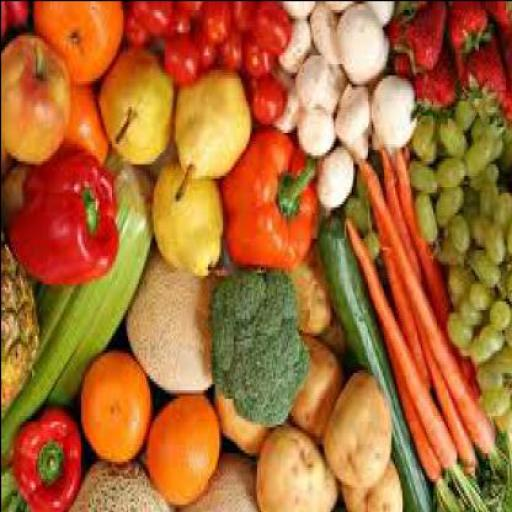biodegradable: (2, 154, 154, 512), (360, 159, 510, 511), (350, 225, 492, 511), (319, 214, 434, 511), (208, 271, 310, 429), (9, 152, 120, 286), (383, 330, 463, 512), (220, 126, 318, 272), (412, 303, 482, 492), (127, 254, 216, 398), (388, 148, 452, 332), (171, 72, 254, 206), (2, 34, 71, 168), (102, 46, 174, 168), (146, 392, 220, 506), (153, 166, 225, 281), (80, 355, 153, 466), (327, 372, 392, 492), (381, 246, 433, 395), (34, 3, 126, 86), (12, 411, 84, 511), (254, 432, 340, 511), (2, 246, 40, 417), (290, 340, 348, 449), (382, 158, 424, 289), (58, 80, 111, 169), (174, 458, 262, 511), (72, 469, 180, 511), (387, 3, 446, 75), (337, 3, 389, 83), (287, 246, 332, 337), (454, 37, 505, 117), (212, 391, 270, 458), (370, 77, 418, 149), (416, 52, 462, 126), (343, 460, 404, 511), (295, 51, 340, 120), (318, 151, 356, 212), (450, 3, 492, 57), (337, 83, 374, 143), (310, 3, 344, 66), (297, 108, 338, 160), (253, 6, 292, 60), (163, 35, 200, 91), (250, 77, 288, 129), (2, 163, 29, 232), (279, 20, 314, 71), (245, 34, 279, 80), (466, 249, 501, 289), (495, 37, 511, 124), (203, 3, 233, 49), (468, 121, 503, 160), (280, 74, 302, 135), (2, 3, 32, 46), (337, 3, 394, 25), (126, 6, 152, 54), (412, 117, 437, 166), (465, 138, 494, 180), (136, 3, 170, 38), (218, 32, 245, 74), (194, 29, 218, 74), (418, 197, 440, 246), (412, 163, 440, 200), (323, 320, 350, 358), (436, 160, 468, 192), (436, 194, 465, 229), (166, 14, 192, 51), (449, 311, 472, 352), (483, 386, 510, 420), (485, 223, 505, 266), (234, 3, 258, 38), (450, 271, 474, 306), (345, 203, 370, 235), (174, 3, 204, 29), (341, 137, 370, 163), (478, 366, 504, 395), (488, 348, 510, 382), (495, 193, 511, 239), (436, 241, 462, 269), (451, 217, 470, 254), (479, 189, 498, 226), (490, 5, 511, 38), (363, 231, 382, 266), (481, 332, 505, 358), (470, 286, 494, 312), (468, 214, 487, 246), (283, 3, 318, 20), (370, 128, 392, 154), (491, 306, 510, 335), (495, 408, 511, 442), (472, 340, 490, 369), (470, 175, 497, 194), (358, 177, 371, 209), (336, 66, 347, 92), (506, 271, 511, 305), (463, 348, 474, 361)
